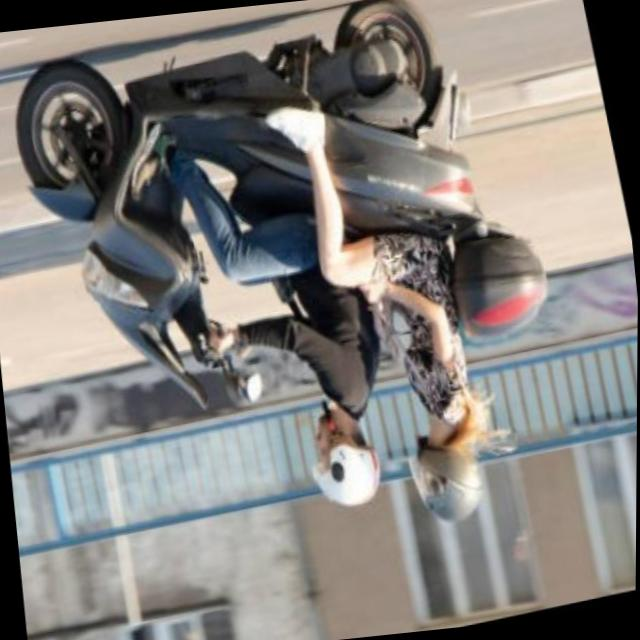WITH_HELMET: (294, 406, 393, 524), (395, 424, 493, 538)
